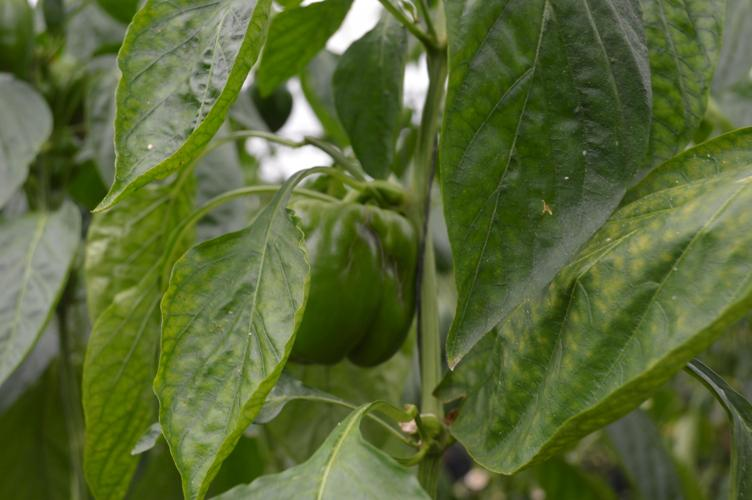BellPepper: (231, 178, 420, 394)
